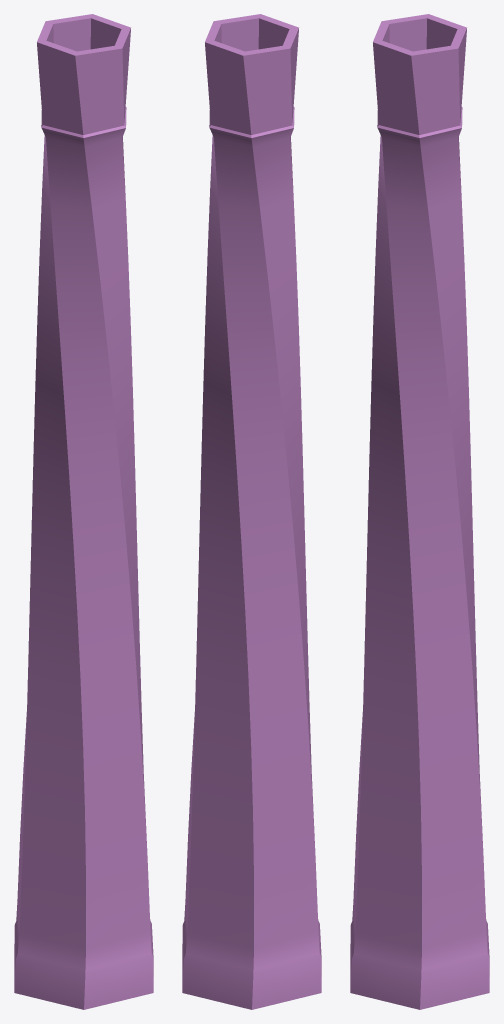
The model's file is Tower3_Factory.fbx.
3 views of the same model, side by side, from view 1: azimuth 30°, elevation 25°; view 2: azimuth 150°, elevation 25°; view 3: azimuth 270°, elevation 25° (orthographic).
Visible parts, largest first — view 1: Tower3_Factory; view 2: Tower3_Factory; view 3: Tower3_Factory.
Part boxes in pixels (bbox=[...]): Tower3_Factory: bbox=[14, 14, 153, 1009]; Tower3_Factory: bbox=[182, 14, 321, 1009]; Tower3_Factory: bbox=[350, 14, 489, 1009].
Size of the model in its own units: 868 by 5599 by 751.
